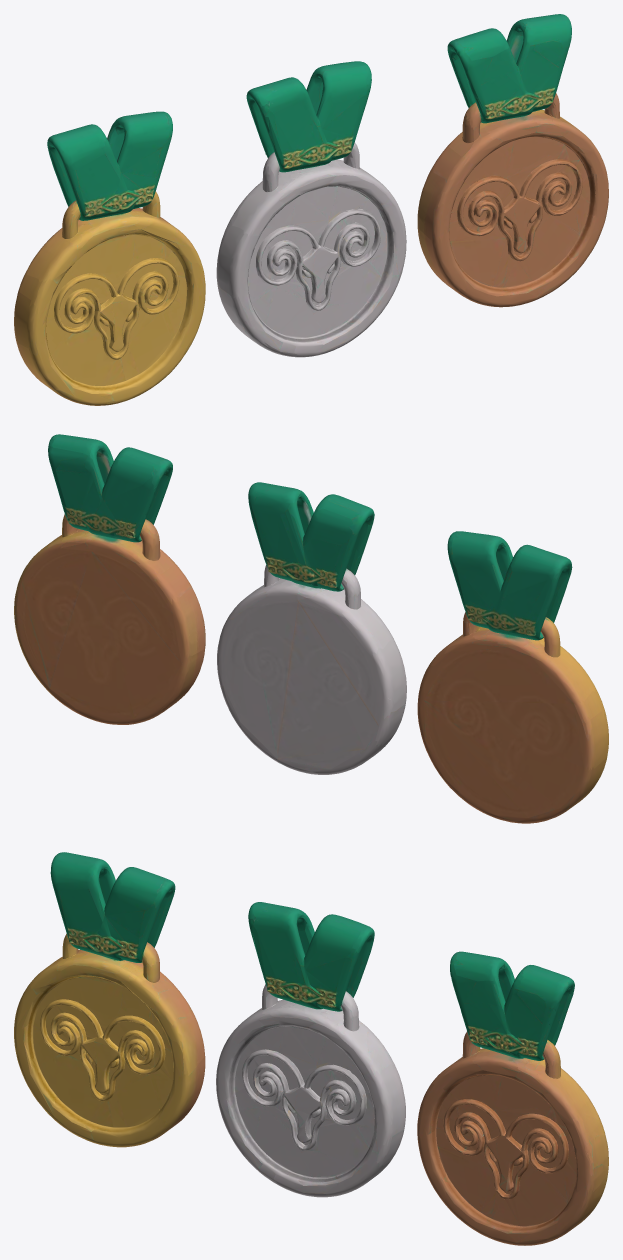
File: medals.glb
3 renders of one model, top to bottom at view 1: azimuth 30°, elevation 25°; view 2: azimuth 150°, elevation 25°; view 3: azimuth 330°, elevation 25°, orthographic.
Visible parts, largest first — view 1: gold, bronze, silver; view 2: gold, bronze, silver; view 3: gold, bronze, silver.
Boxes of the visible parts, x1,y1,x2,y2 form: gold: (14,111,205,405); bronze: (417,14,608,307); silver: (216,61,406,357); gold: (417,531,608,823); bronze: (14,434,205,724); silver: (217,482,406,774); gold: (14,852,205,1147); bronze: (417,951,608,1245); silver: (216,902,405,1197).
Bounding box in the file's own units: 2 × 0.9098 × 0.1311.
1 material, 1 textured.
